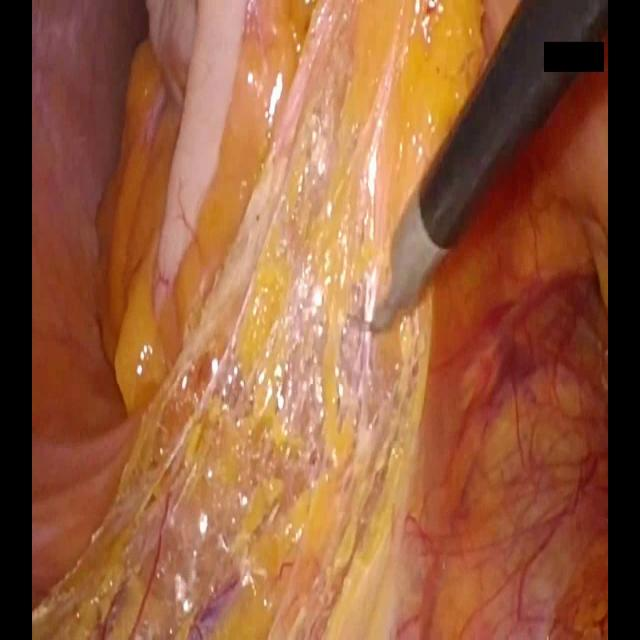surgical-area: (32, 0, 608, 639)
surgical-tool: (370, 0, 609, 333)
